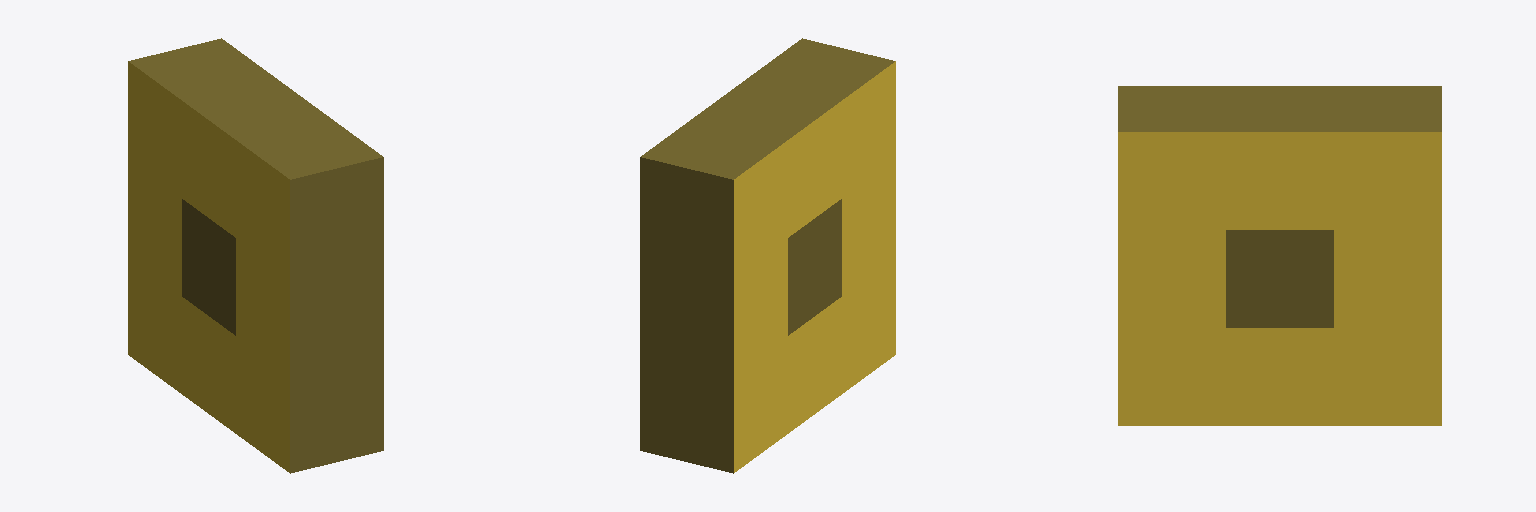
3 views of the same model, side by side, from view 1: azimuth 30°, elevation 25°; view 2: azimuth 150°, elevation 25°; view 3: azimuth 270°, elevation 25° (orthographic).
Visible parts, largest first — view 1: cube; view 2: cube; view 3: cube.
Boxes of the visible parts, x1=… form: cube: x1=128, y1=38, x2=383, y2=473; cube: x1=640, y1=38, x2=895, y2=473; cube: x1=1118, y1=86, x2=1441, y2=425.
Size of the model in its own units: 0.0625 by 0.1875 by 0.1875.
Materials: 1 (1 with a texture image).